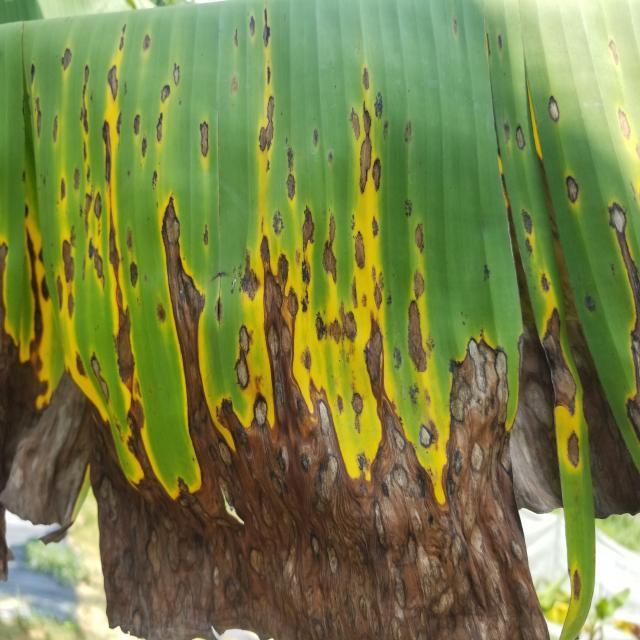Early_rust: (0, 18, 640, 604)
